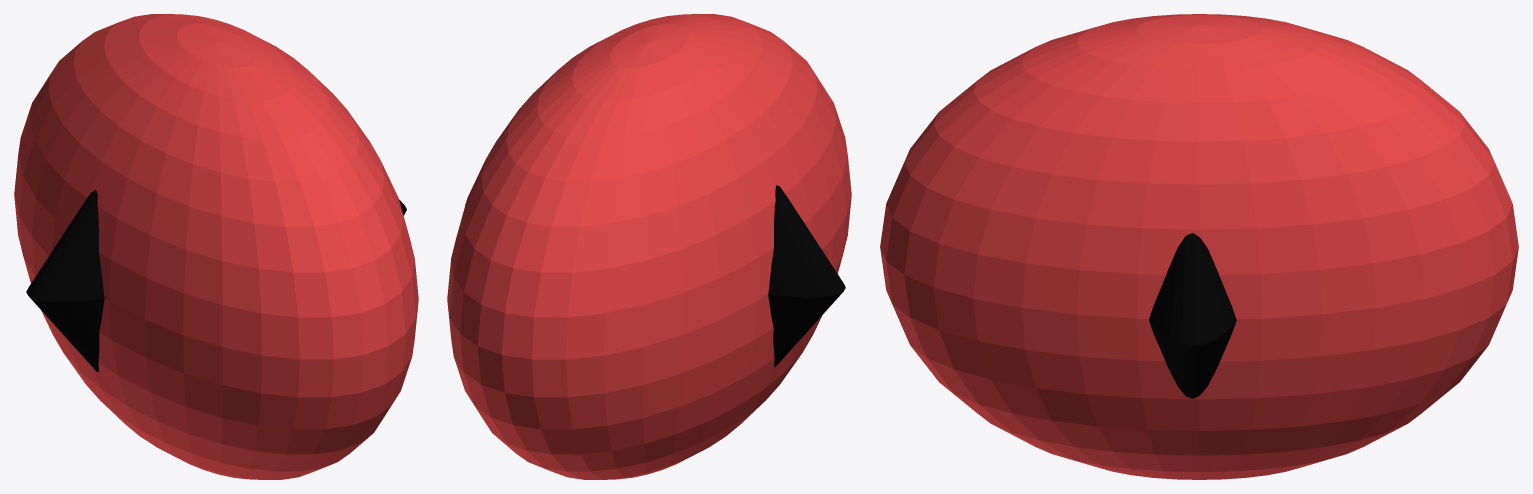
The model's file is ojoTorre.glb.
The picture shows the model from 3 angles, left to right: view 1: azimuth 30°, elevation 25°; view 2: azimuth 150°, elevation 25°; view 3: azimuth 270°, elevation 25°; orthographic projection. The views are drawn at different scales.
Parts seen in each view (by area): view 1: Cone.002; view 2: Cone.002; view 3: Cone.002.
Part boxes in pixels (box(x1,y1,x2,y2)): Cone.002: box(14, 14, 418, 479); Cone.002: box(447, 14, 851, 479); Cone.002: box(880, 14, 1518, 479).
Size of the model in its own units: 2.26 by 2.35 by 3.07.
